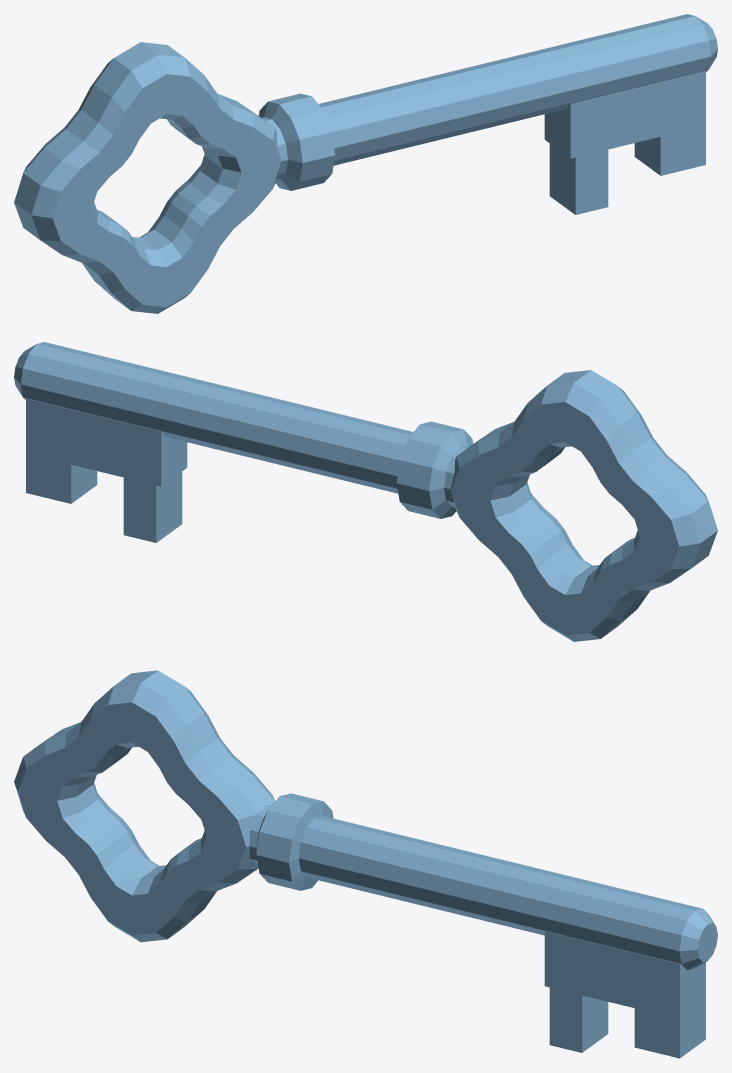
File: sotano.glb
3 views of the same model, one above another, from view 1: azimuth 30°, elevation 25°; view 2: azimuth 150°, elevation 25°; view 3: azimuth 330°, elevation 25° (orthographic).
Bounding box in the file's own units: 0.2736 × 0.0989 × 0.032.
